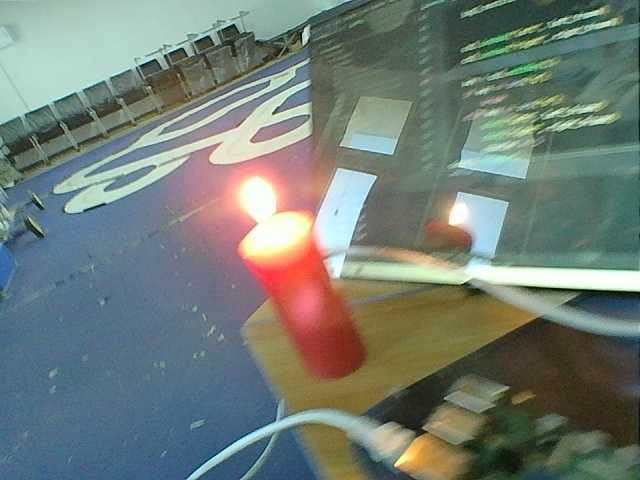candle: (222, 224, 373, 383)
fire: (227, 175, 288, 226), (443, 198, 474, 227)
